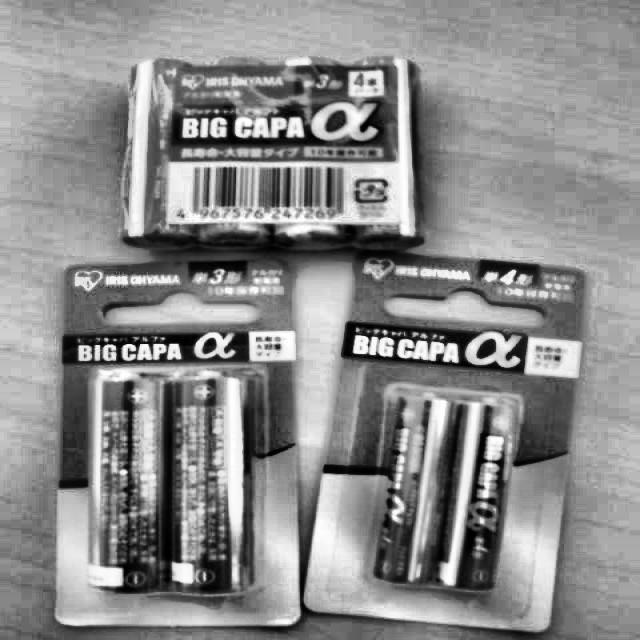drycell: (85, 367, 166, 595), (169, 370, 248, 599)
